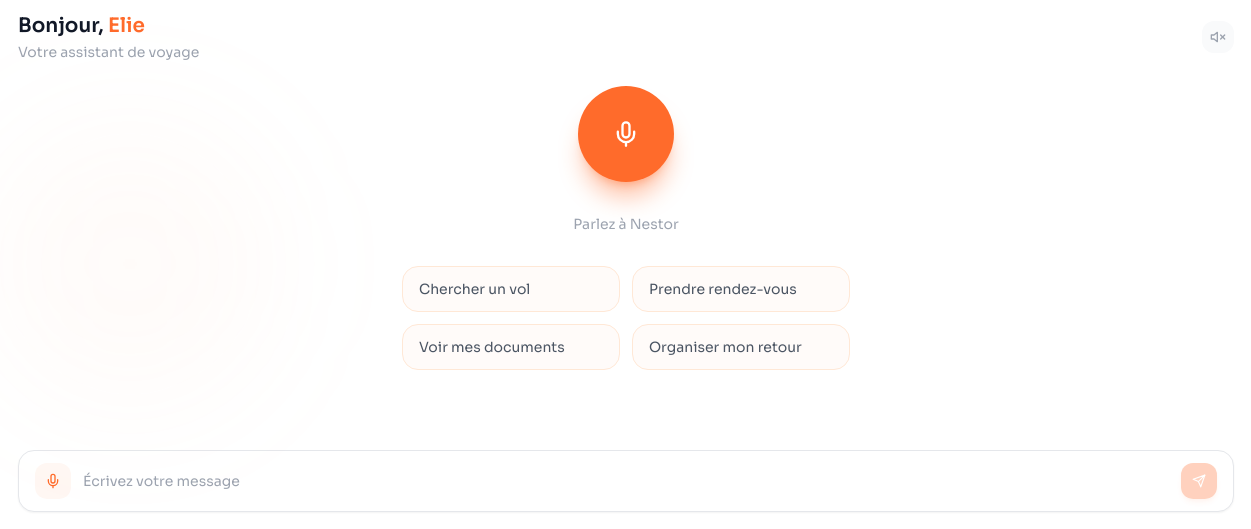
Scenario: IAPage › envoie directement une suggestion sélectionnée
Click the button "Chercher un vol": click(511, 289) [402, 266, 620, 312]
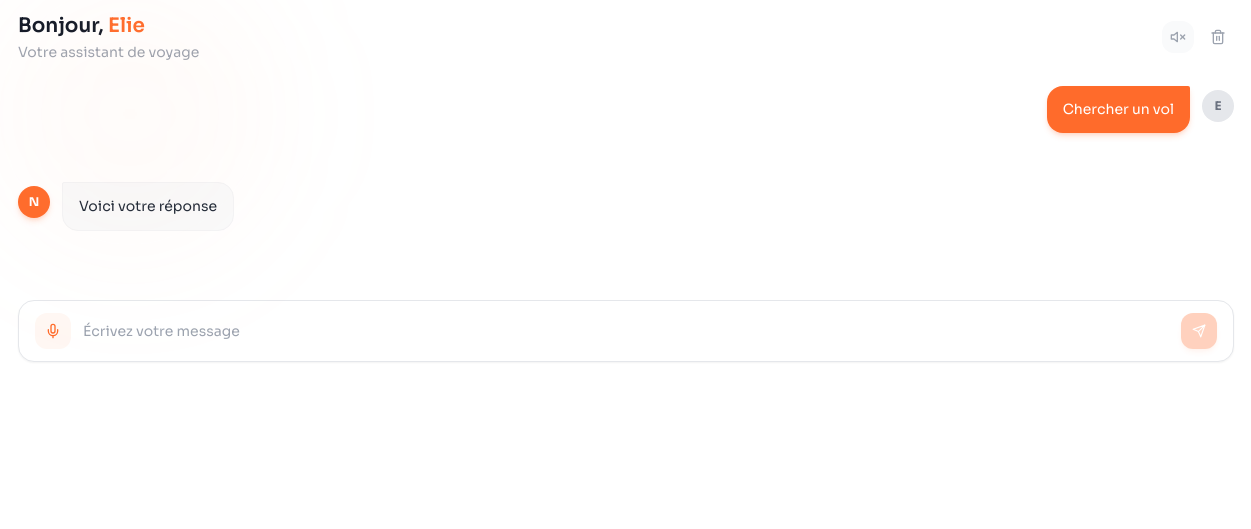
Expected: the text "Voici votre réponse" is shown, [62, 182, 234, 231]
